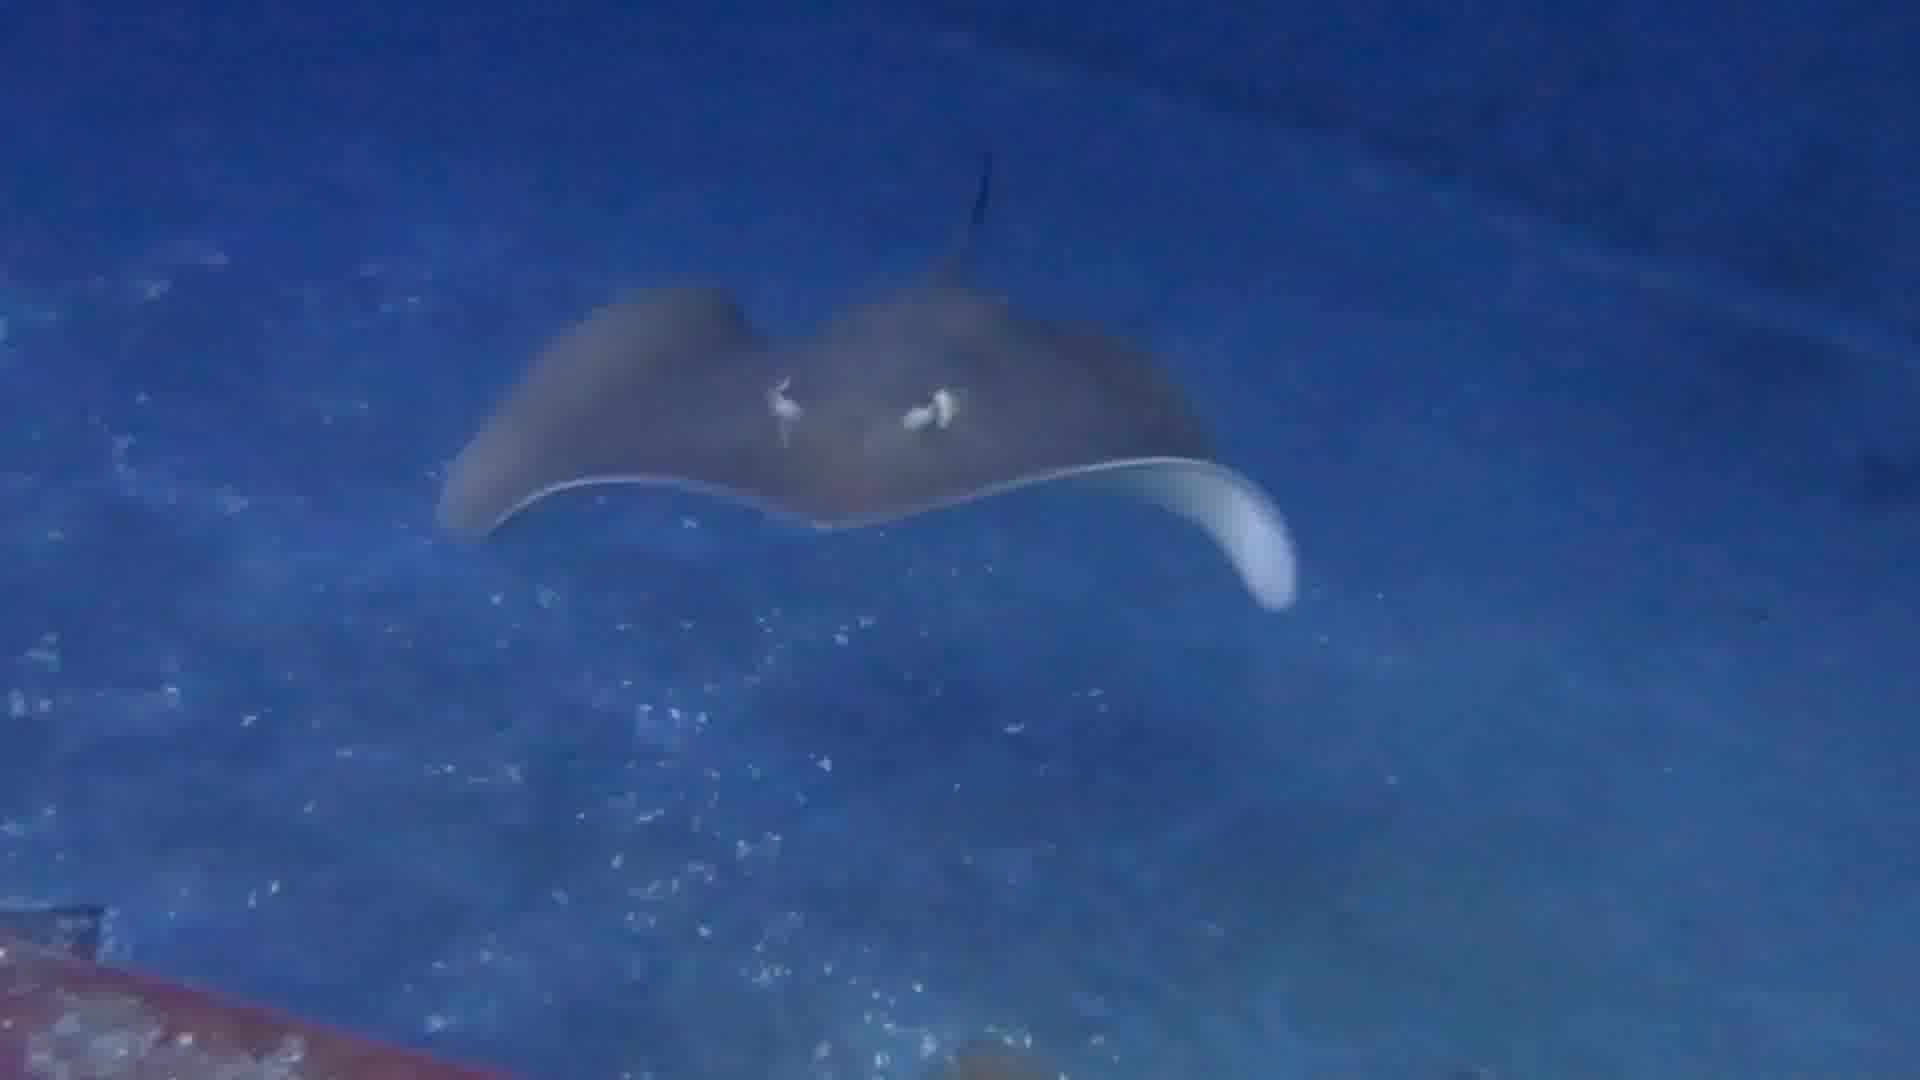Dasyatis akajei: (371, 135, 1381, 607)
